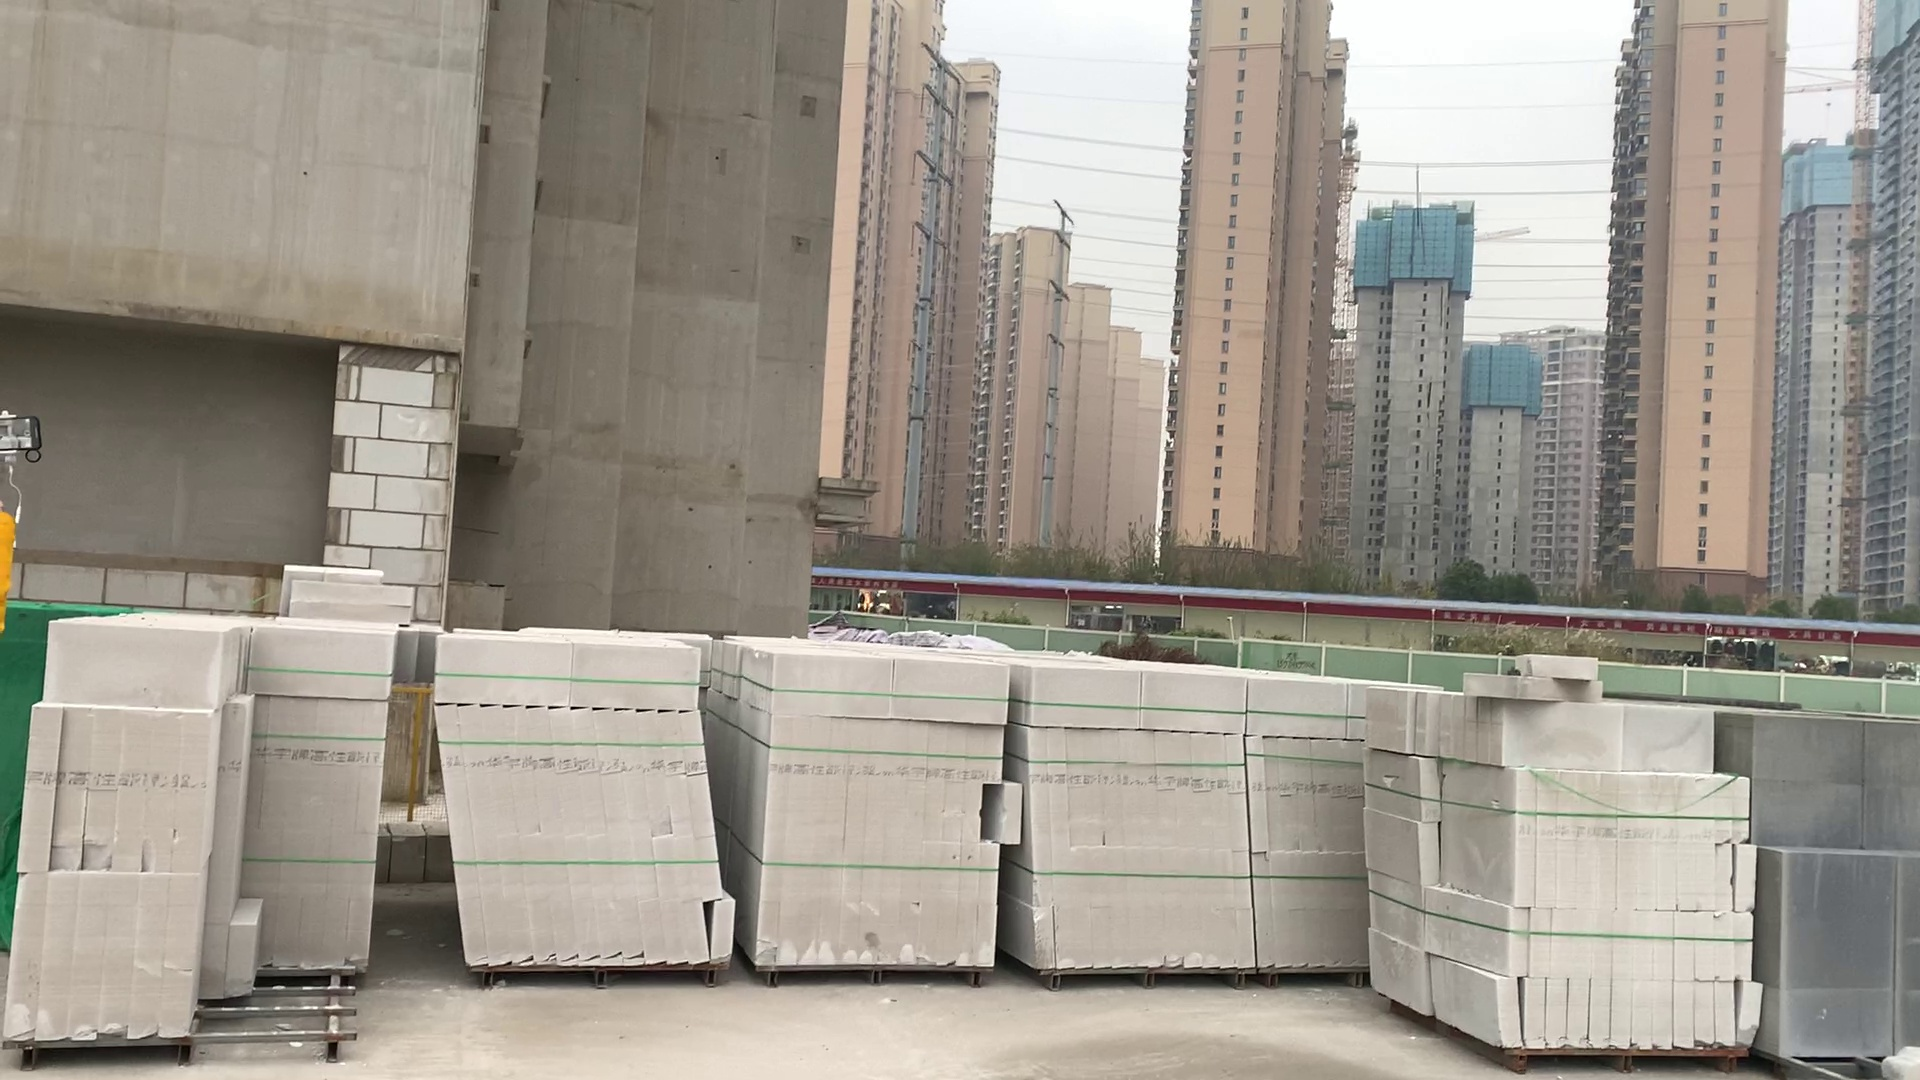brickwork: (20, 615, 392, 1046), (1366, 698, 1758, 1052), (436, 633, 735, 976), (752, 647, 1011, 976), (1021, 655, 1253, 989), (1747, 707, 1913, 1060), (1253, 670, 1374, 976)
